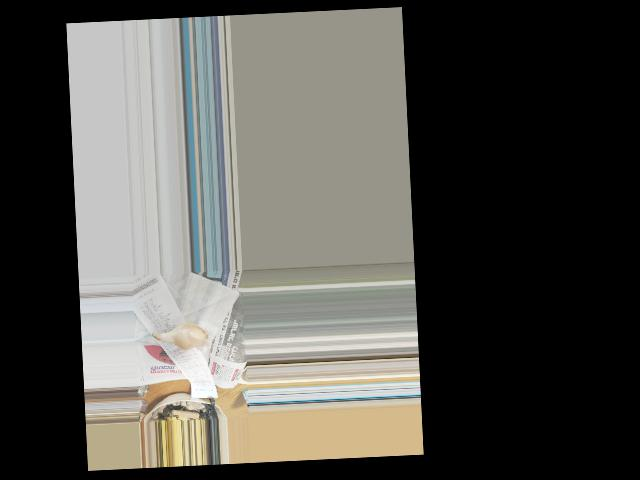onion: (164, 323, 207, 348)
